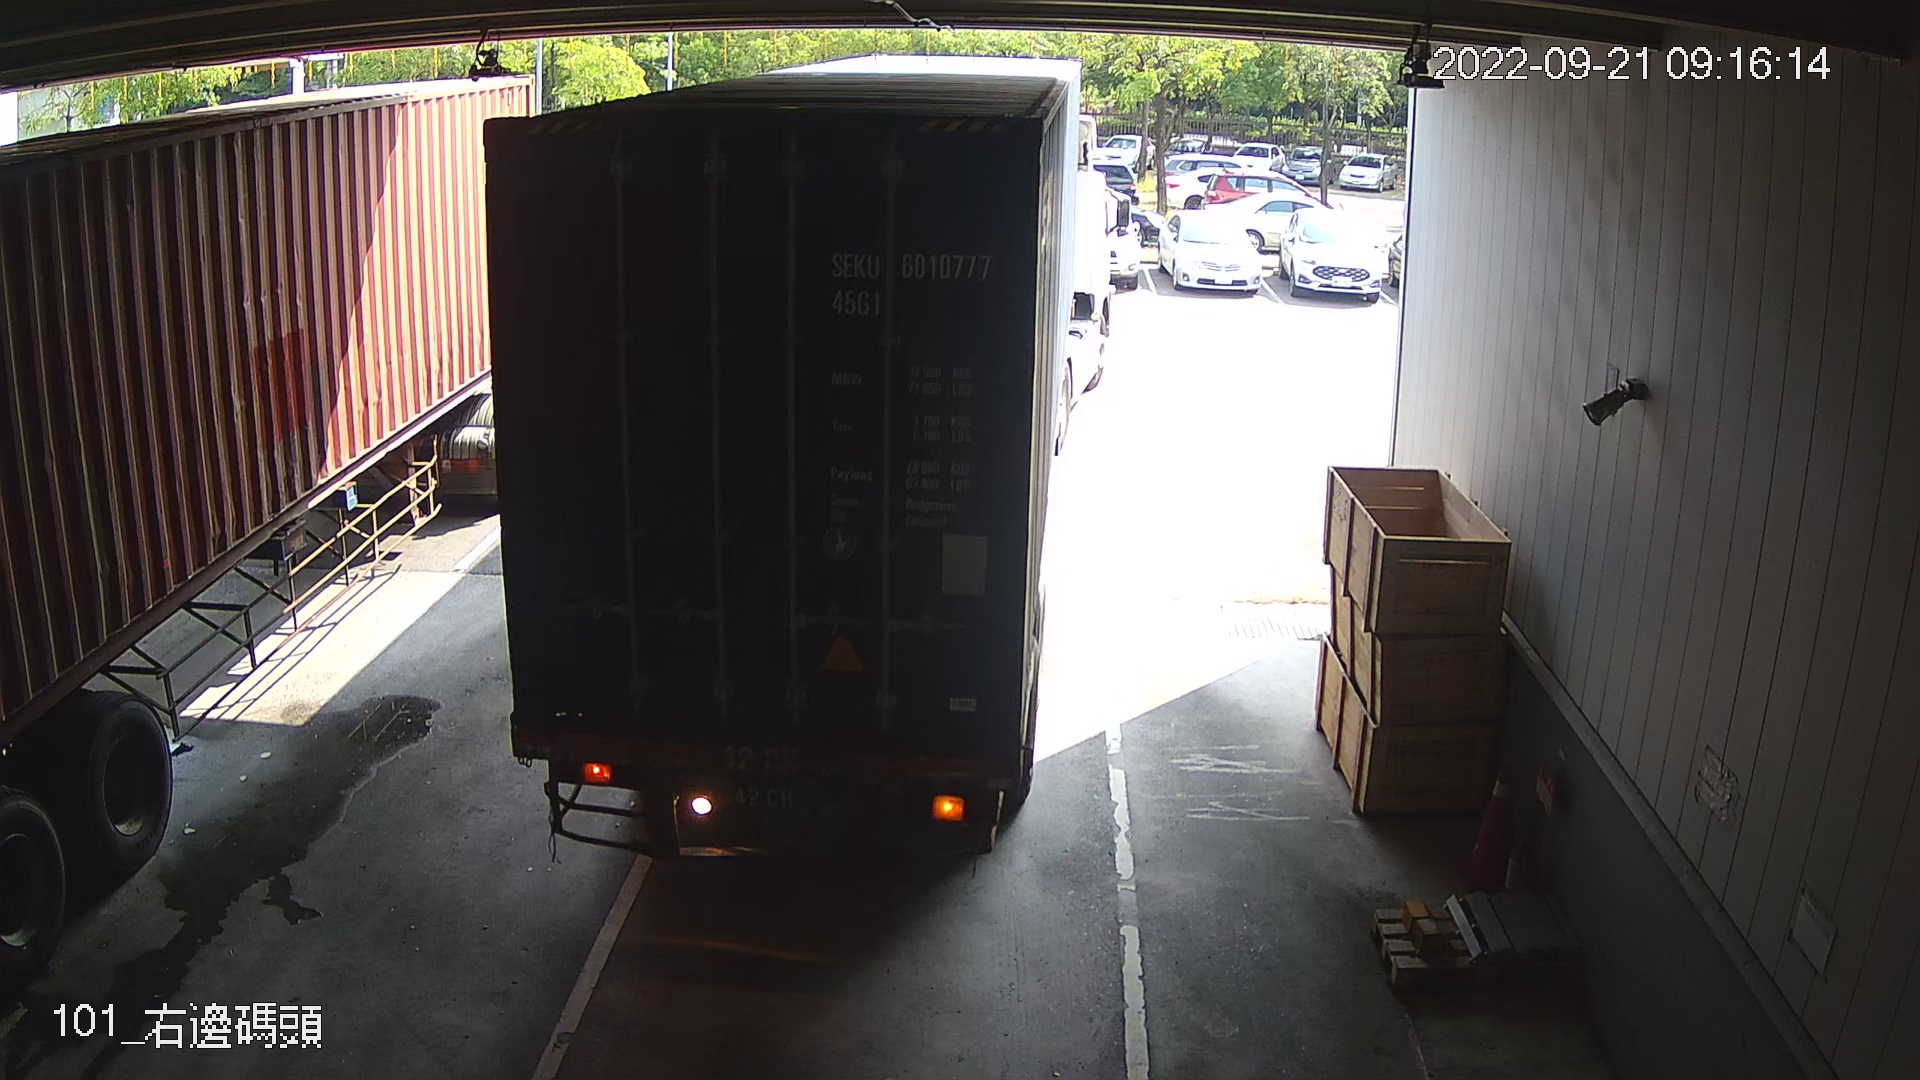container: (818, 239, 1004, 323)
